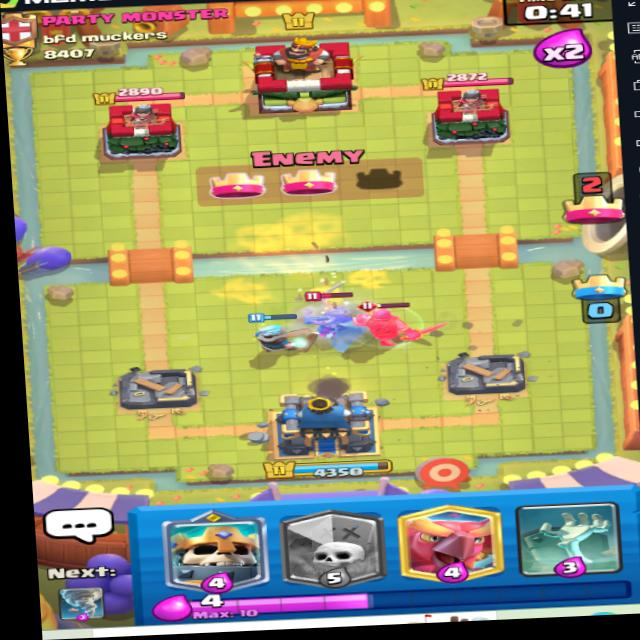EvoKnight: (367, 298, 438, 351)
Queen: (296, 290, 369, 355)
